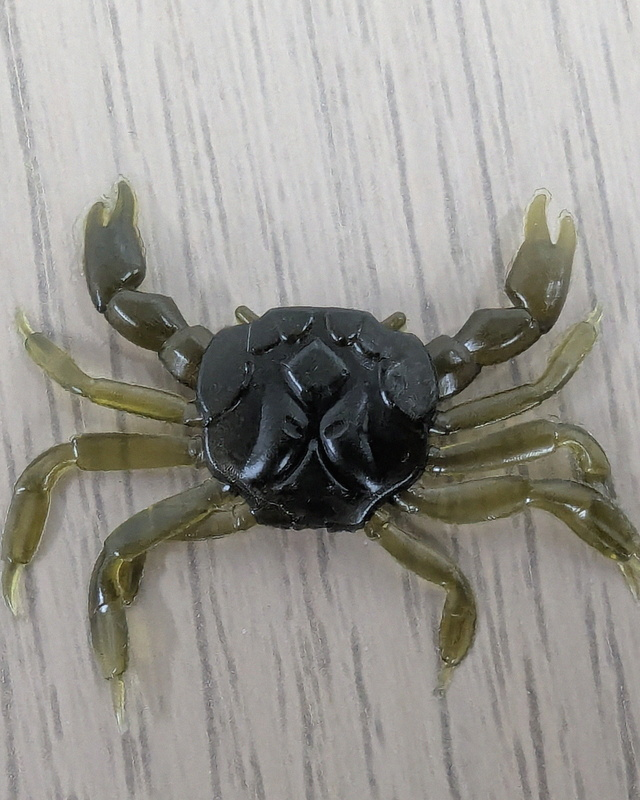crab2: (1, 174, 640, 727)
